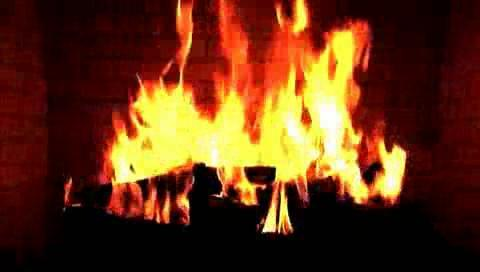fire: (115, 7, 410, 225)
